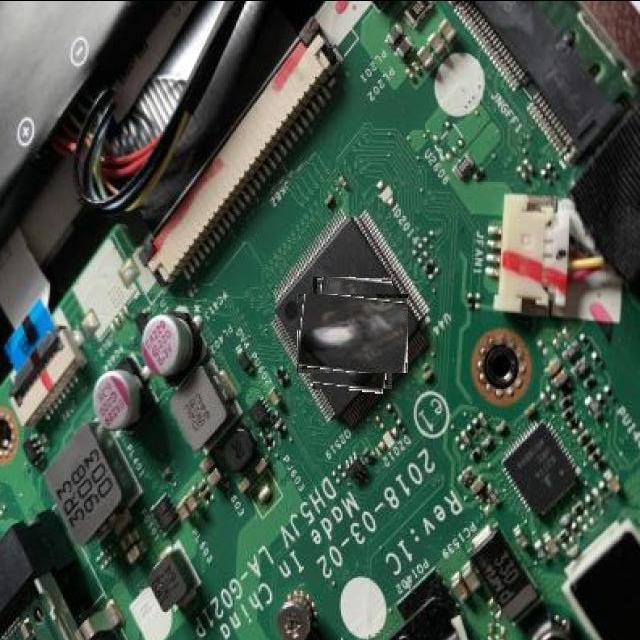damged: (305, 286, 400, 381)
